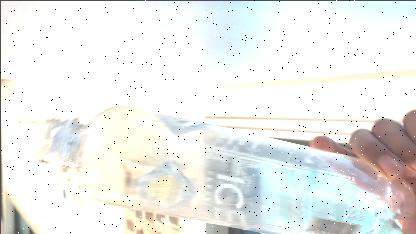Plastic Bottle: (21, 94, 395, 234)
